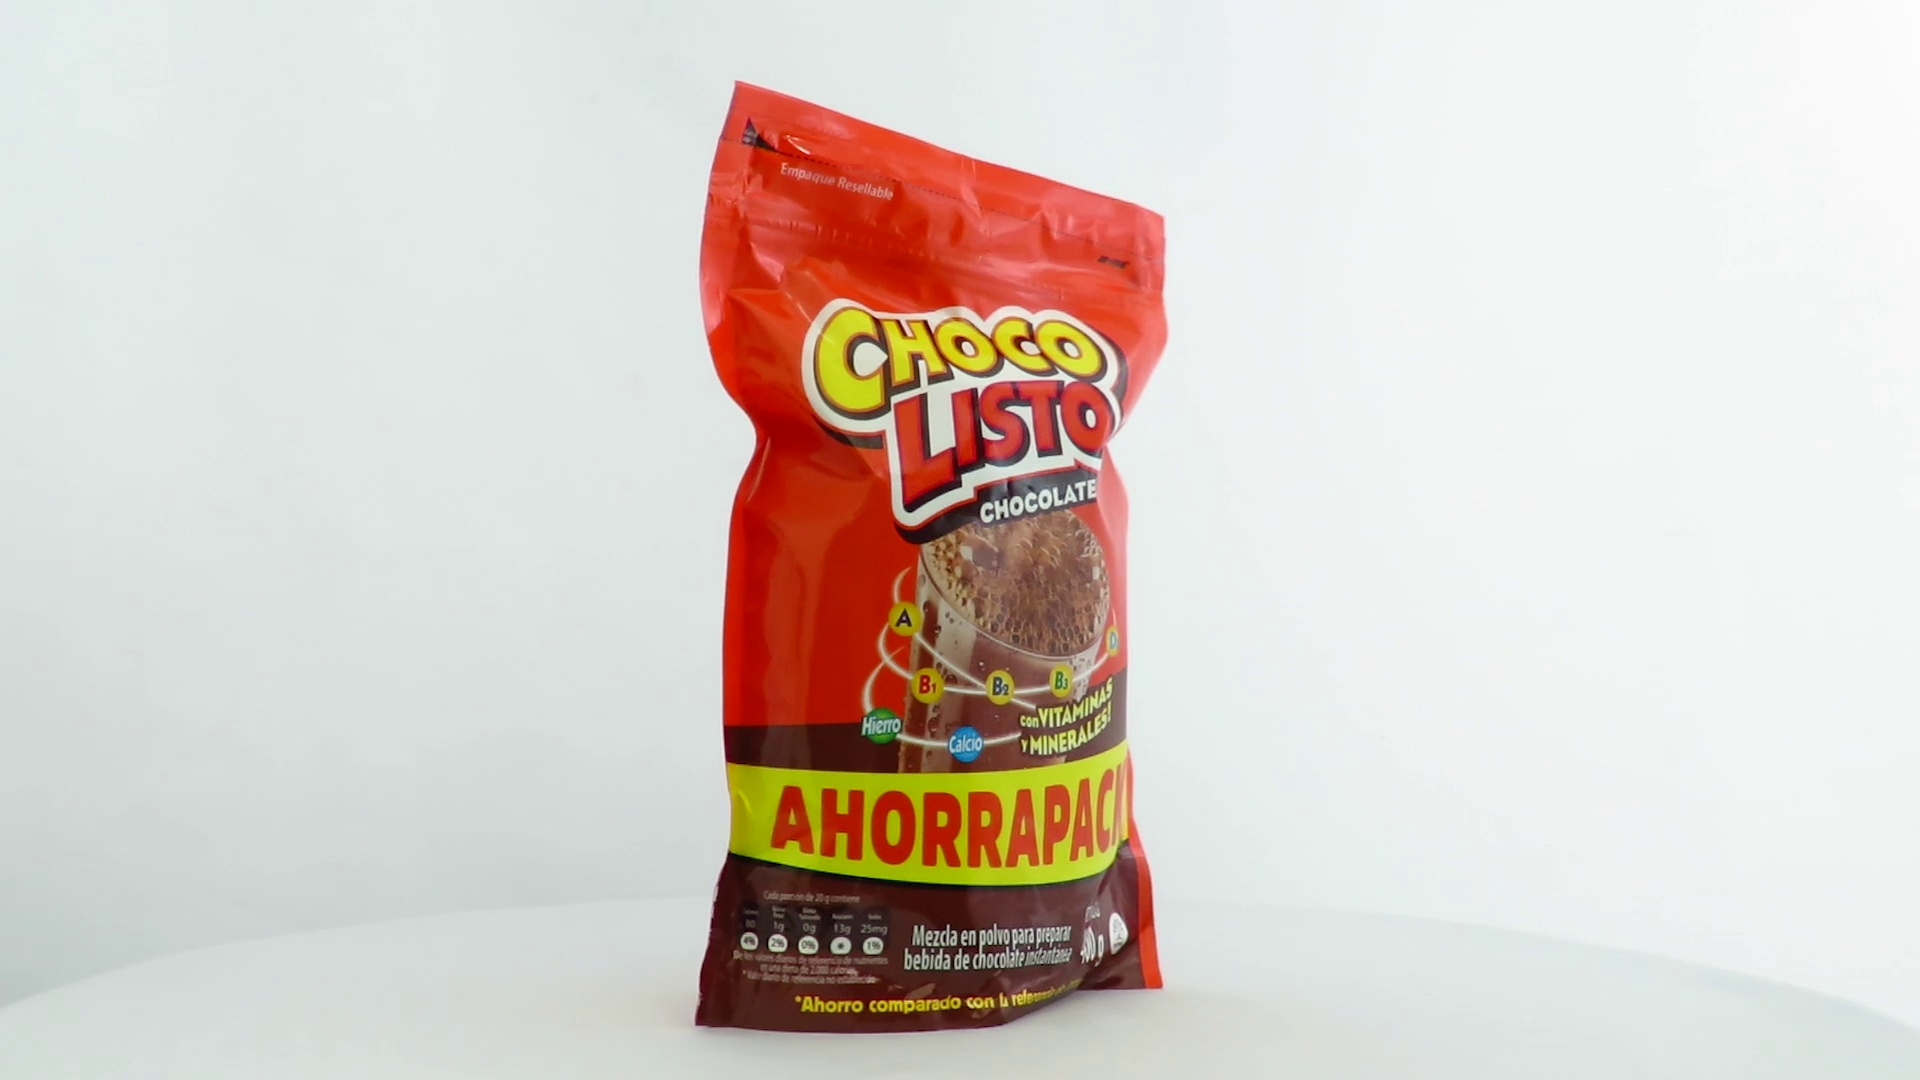COL0170103DYP40000: (690, 75, 1174, 1040)
